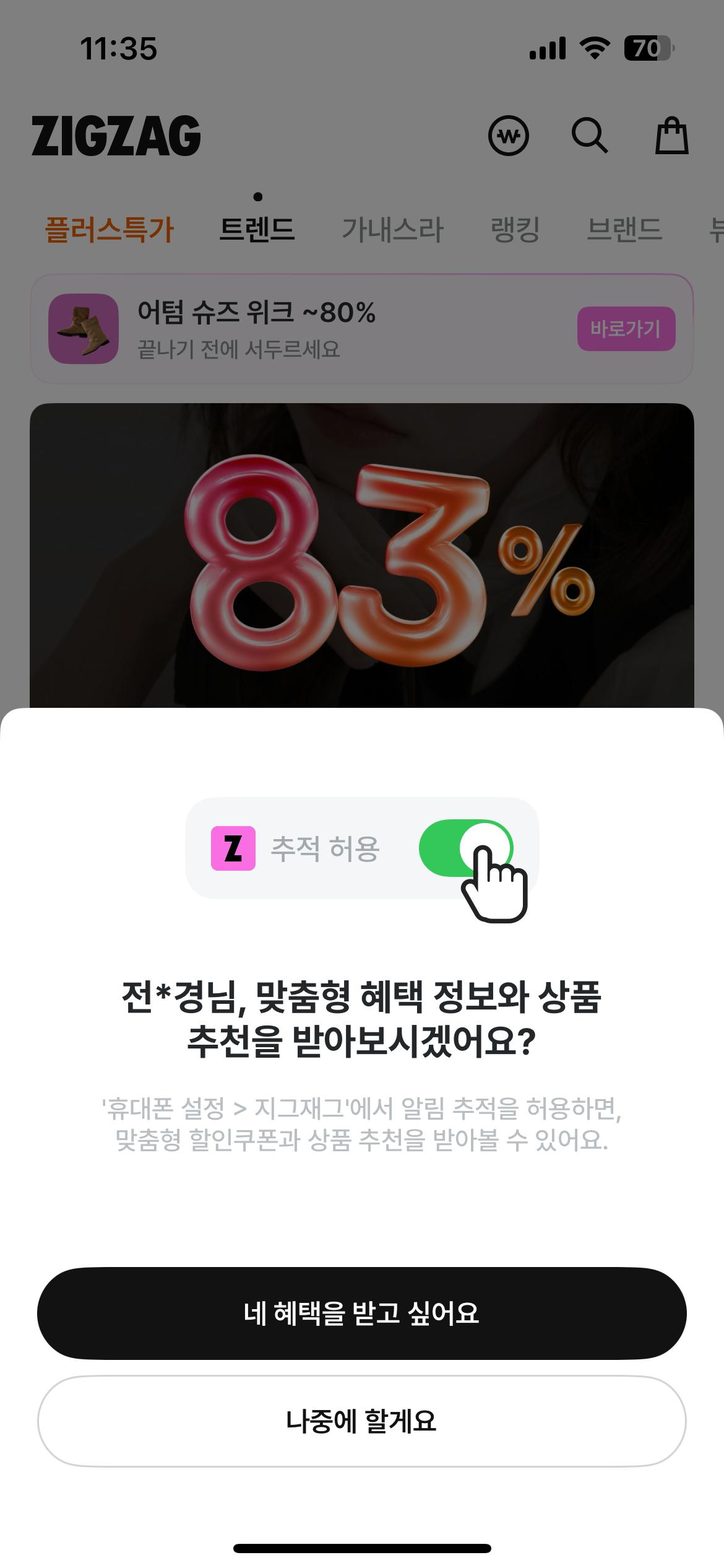button: (35, 1373, 693, 1480), (39, 1265, 699, 1364), (31, 105, 217, 171), (23, 198, 179, 260), (204, 184, 318, 250), (462, 97, 547, 175), (573, 196, 691, 252), (336, 208, 450, 254), (646, 105, 697, 173), (487, 204, 551, 252), (567, 109, 613, 173)
popup: (6, 714, 718, 1245), (37, 403, 701, 702), (21, 262, 701, 396)
